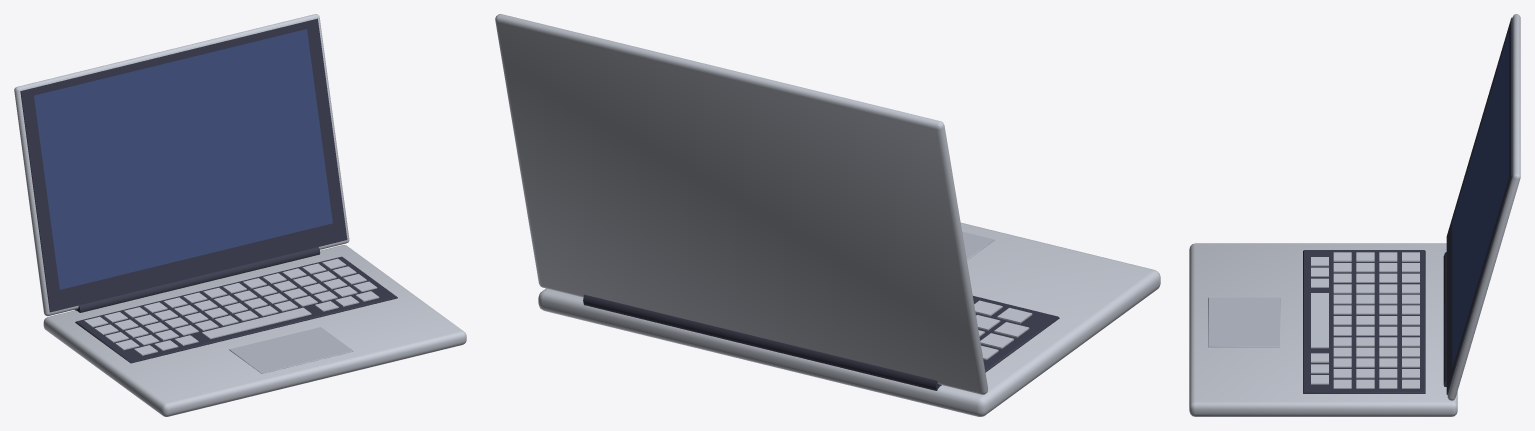
Rendered from laptop.glb.
3 renders of one model, left to right at view 1: azimuth 30°, elevation 25°; view 2: azimuth 150°, elevation 25°; view 3: azimuth 270°, elevation 25°, orthographic. The views are drawn at different scales.
Parts seen in each view (by area): view 1: screen, chrome, charcoal, trackpad; view 2: chrome, charcoal; view 3: chrome, charcoal, screen, trackpad.
Boxes of the visible parts, box(x1,y1,x2,y2) form: screen: box(34, 29, 332, 289); chrome: box(14, 14, 466, 416); charcoal: box(20, 18, 397, 363); trackpad: box(229, 327, 353, 373); chrome: box(495, 14, 1160, 416); charcoal: box(583, 294, 1059, 390); chrome: box(1189, 14, 1520, 416); charcoal: box(1303, 17, 1512, 394); screen: box(1452, 32, 1508, 367); trackpad: box(1208, 297, 1280, 347).
Bounding box in the file's own units: 0.33 × 0.2305 × 0.284.
